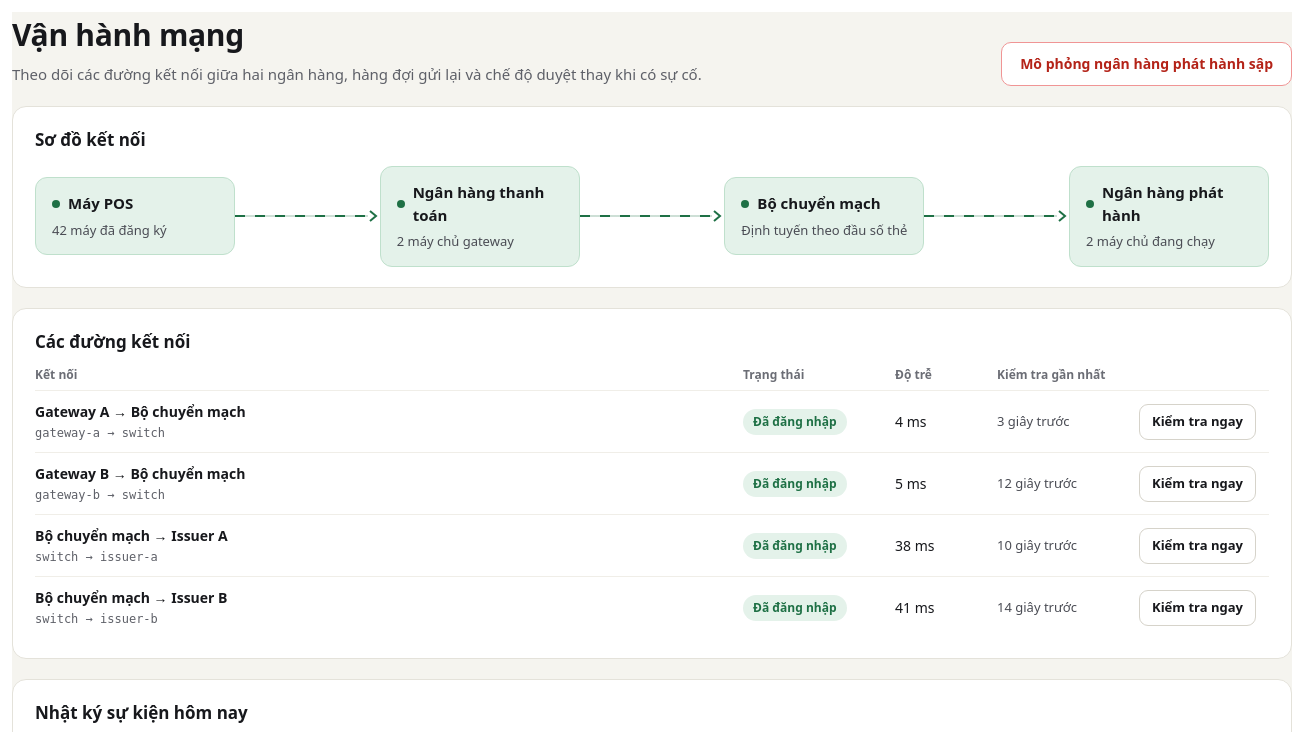
NetworkScreen › NET-G10: a failed issuer-outage toggle says so, like the Chaos Lab
The width and height of the screenshot is (1304, 732).
Click the button "Mô phỏng ngân hàng phát hành sập". click: coordinates (1147, 64)
box: x1=1001 y1=42 x2=1292 y2=86
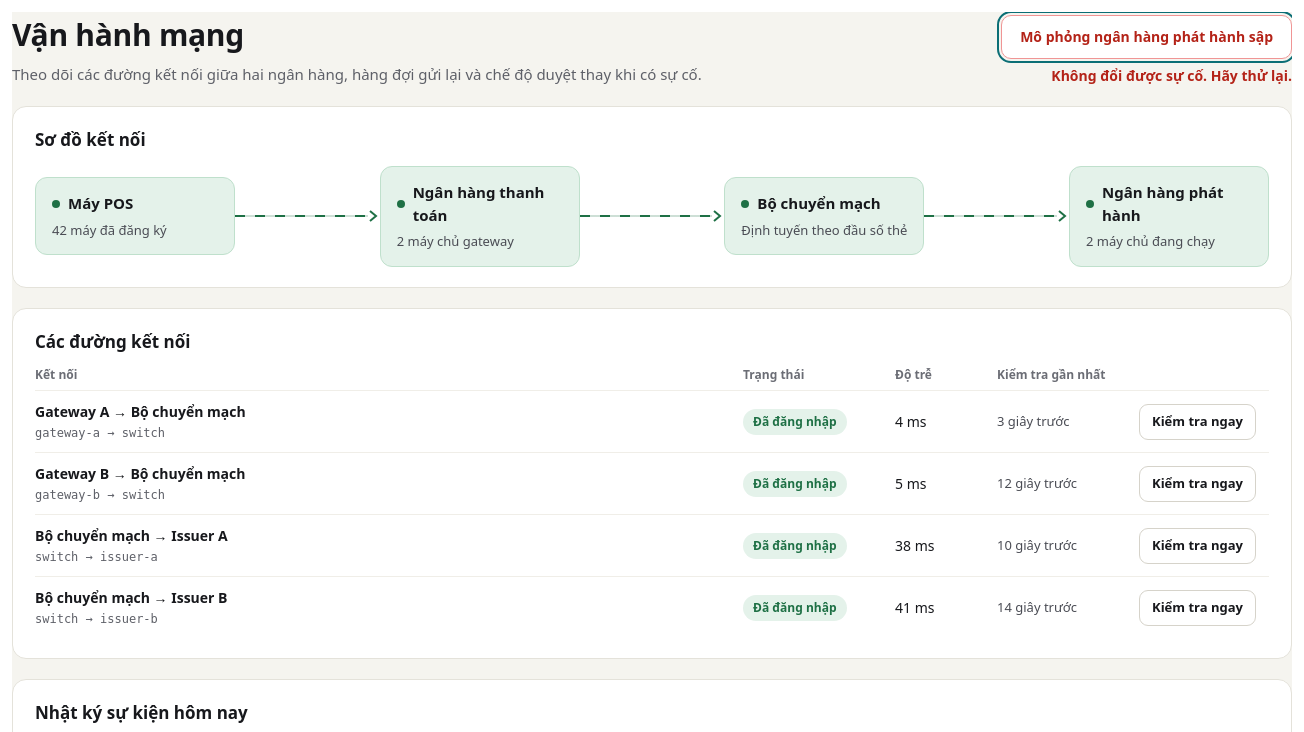
Now the message reads "Không đổi được sự cố. Hãy thử lại.", box x1=1051 y1=66 x2=1292 y2=84
